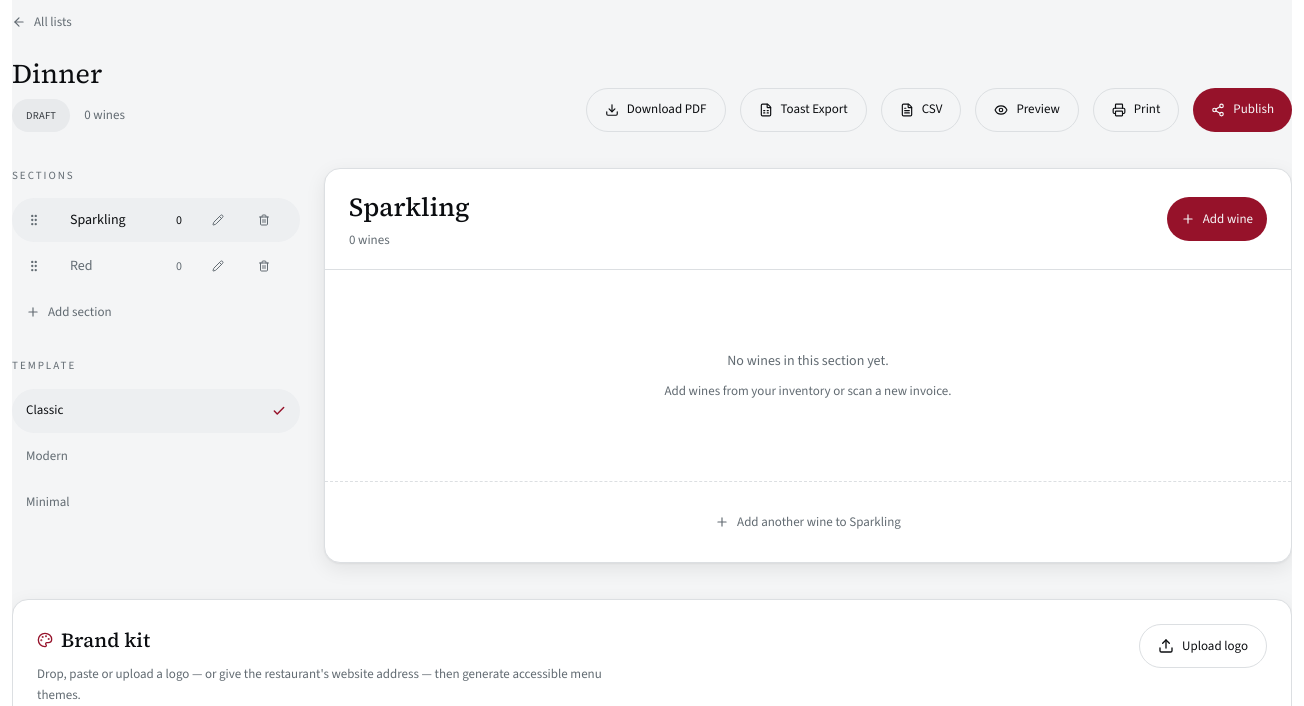
Test: shows the added wine immediately, with no reload
This screenshot has width=1304, height=706.
Expected: the text "Vosne-Romanée" is not shown
Click the button "Add wine". click: (1217, 219)
box: [1167,197,1267,241]
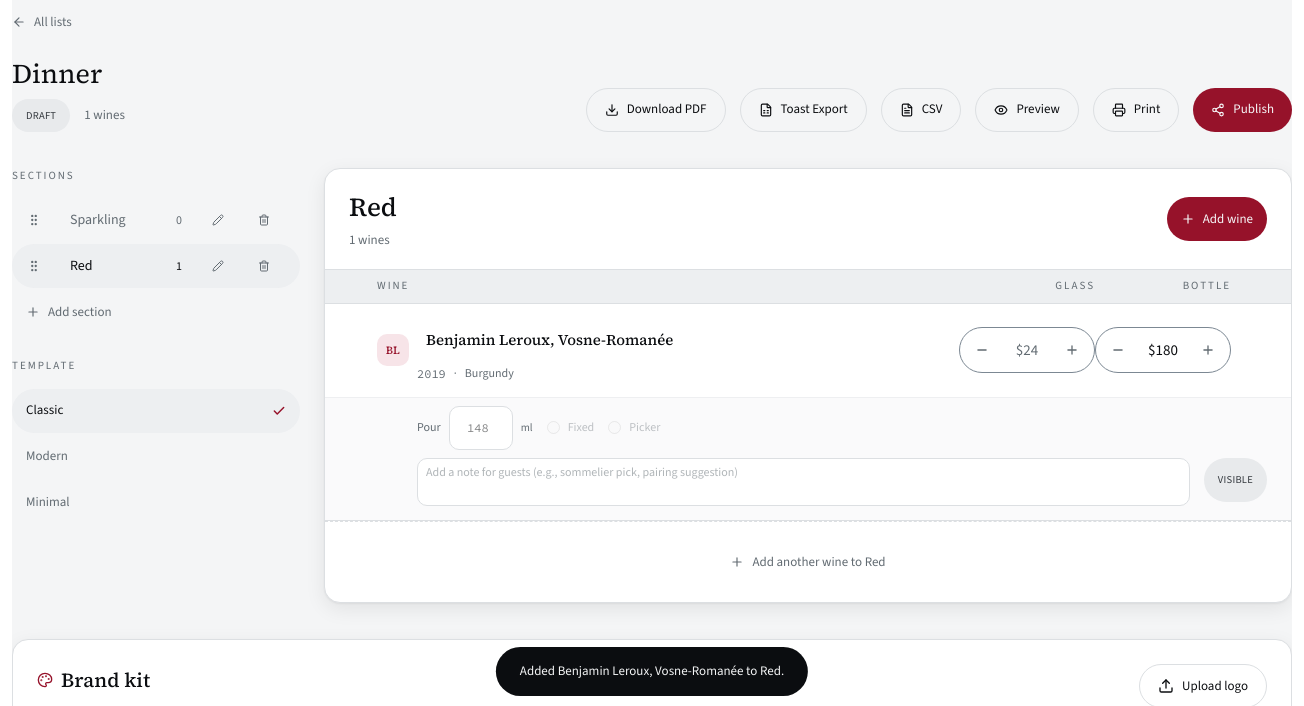
Expected: the text "Vosne-Romanée" is shown, [417,318,682,362]
